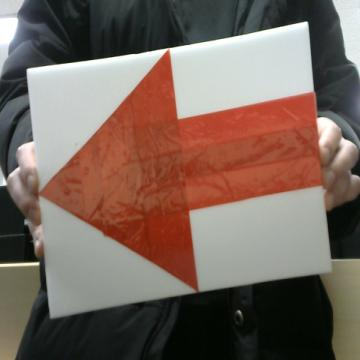red_left: (40, 50, 321, 290)
